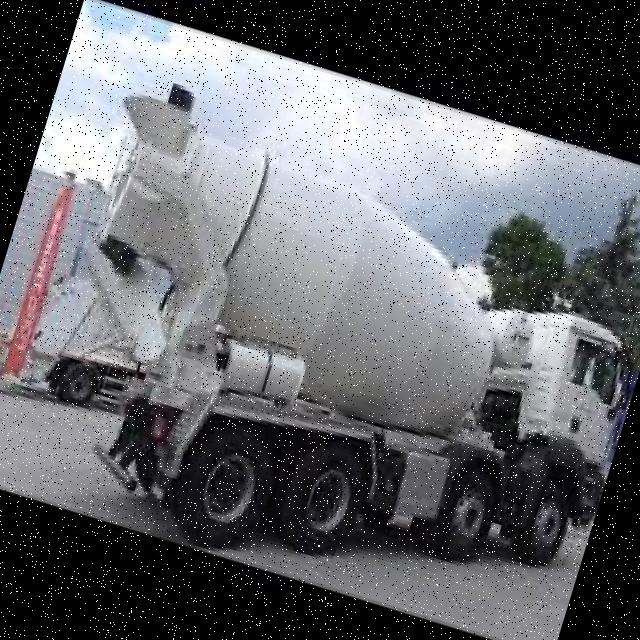Mixer Truck: (1, 63, 640, 640)
